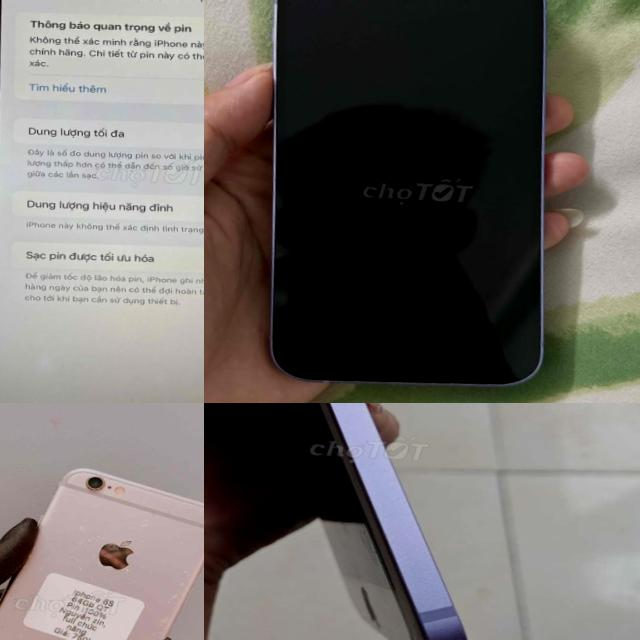scratch: (124, 547, 201, 640), (62, 509, 156, 583), (147, 486, 204, 535)
